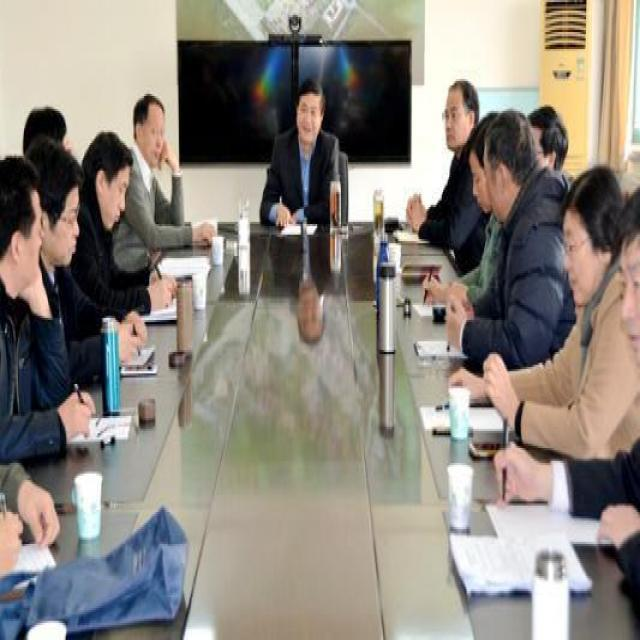no hat: (554, 160, 630, 326), (1, 152, 48, 286), (484, 109, 536, 228), (40, 137, 82, 270), (86, 132, 136, 230), (434, 70, 482, 158), (128, 84, 168, 172), (23, 104, 68, 178), (464, 111, 494, 222), (529, 109, 568, 175), (294, 74, 329, 144)
